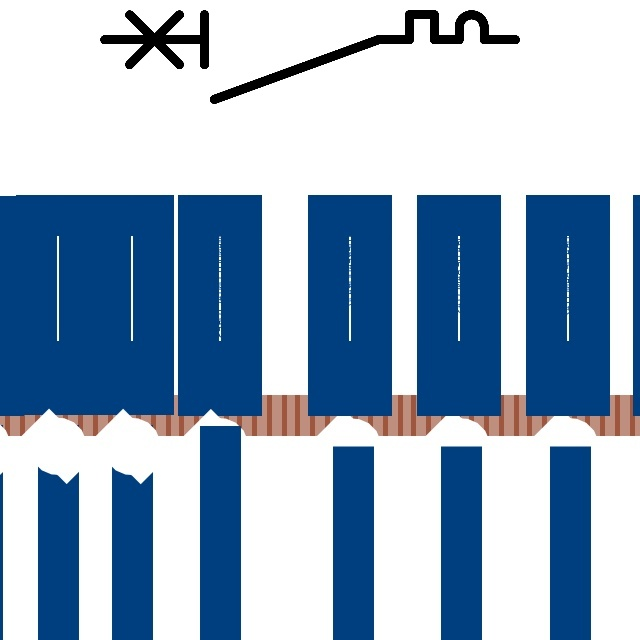interruptor_termomagnetico: (94, 4, 526, 109)
